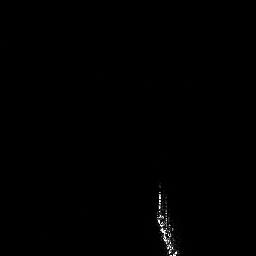ship: (155, 182, 182, 256)
